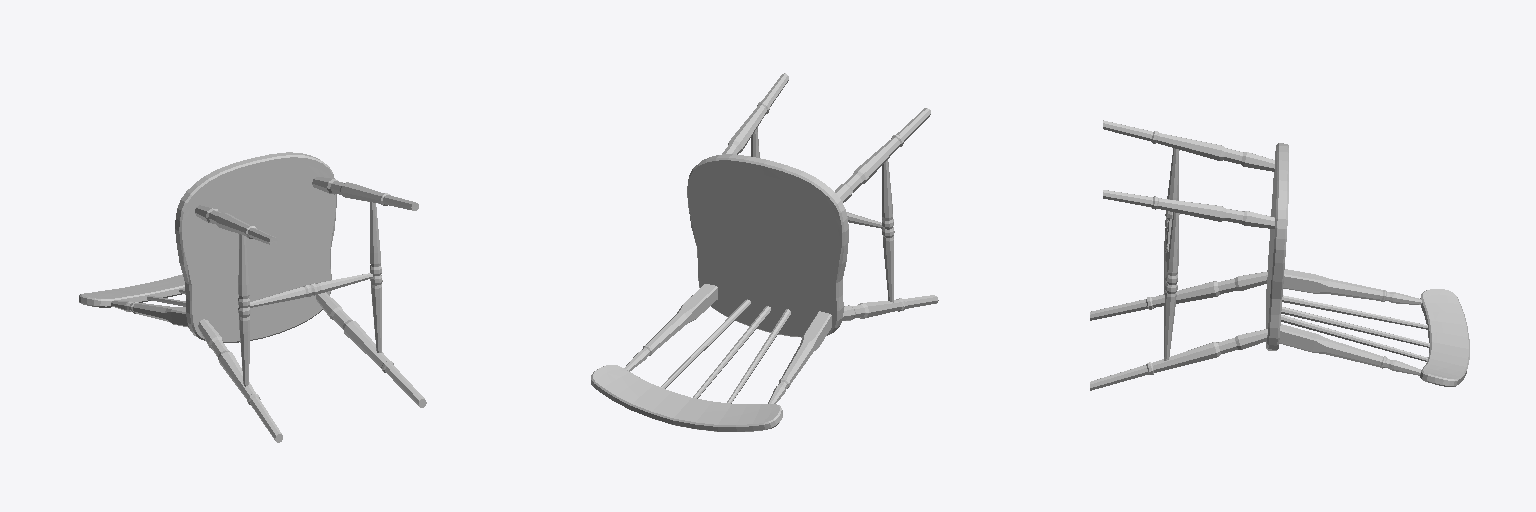
The model's file is FallenChair.obj.
3 views of the same model, side by side, from view 1: azimuth 30°, elevation 25°; view 2: azimuth 150°, elevation 25°; view 3: azimuth 270°, elevation 25° (orthographic).
Visible parts, largest first — view 1: body_main_Cylinder_003; view 2: body_main_Cylinder_003; view 3: body_main_Cylinder_003.
Boxes of the visible parts, box(x1,y1,x2,y2) form: body_main_Cylinder_003: box(79, 152, 426, 442); body_main_Cylinder_003: box(591, 73, 938, 431); body_main_Cylinder_003: box(1090, 120, 1469, 390).
Size of the model in its own units: 0.484 by 0.4984 by 0.8524.